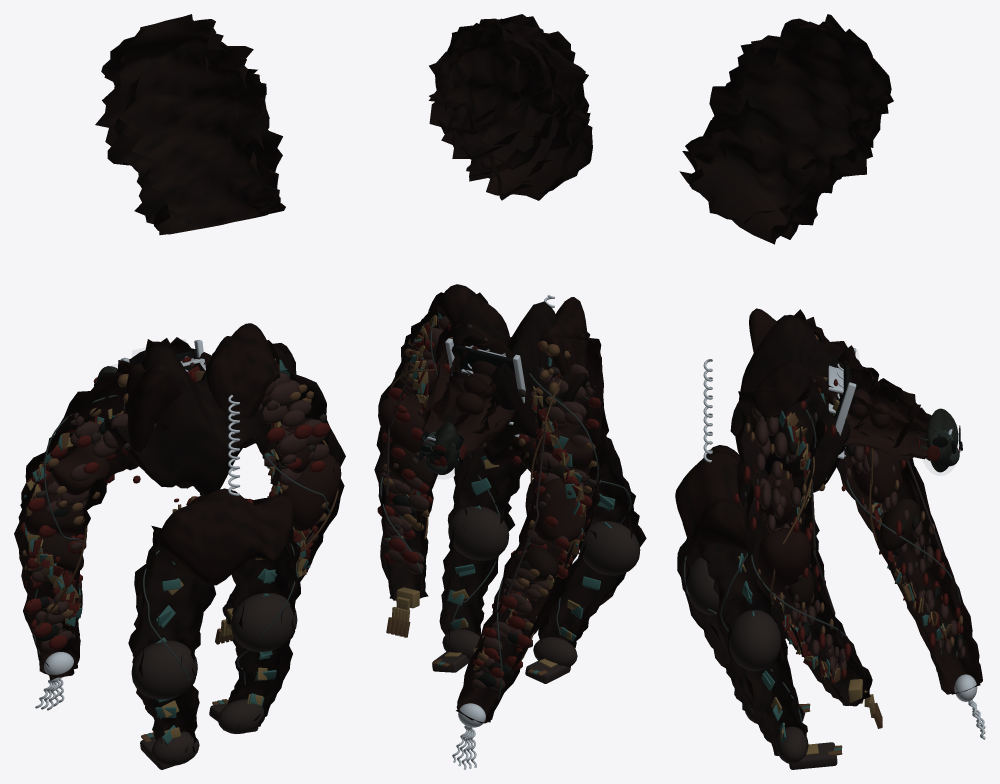
3 renders of one model, left to right at view 1: azimuth 30°, elevation 25°; view 2: azimuth 150°, elevation 25°; view 3: azimuth 270°, elevation 25°, orthographic. The views are drawn at different scales.
Visible parts, largest first — view 1: torso_continuous_hunched_mass, chest_fused_mass, pelvis_fused_mass, leg_l_continuous_fused_limb, arm_l_continuous_fused_limb, leg_r_continuous_fused_limb, shoulder_hump_1, shoulder_hump_-1, leg_l_knee_joint, leg_r_knee_joint, arm_r_continuous_fused_limb, arm_r_elbow_fused_joint (+6 smaller); view 2: torso_continuous_hunched_mass, arm_l_continuous_fused_limb, chest_fused_mass, leg_r_continuous_fused_limb, leg_l_continuous_fused_limb, arm_r_continuous_fused_limb, leg_r_knee_joint, leg_l_knee_joint, neck_forward_fused_mass, arm_l_elbow_fused_joint, shoulder_hump_-1, neck_trapezius_bridge_-1 (+18 smaller); view 3: torso_continuous_hunched_mass, arm_r_continuous_fused_limb, arm_l_continuous_fused_limb, leg_r_continuous_fused_limb, chest_fused_mass, pelvis_fused_mass, neck_trapezius_bridge_1, arm_r_elbow_fused_joint, leg_r_knee_joint, shoulder_hump_1, neck_forward_fused_mass, leg_l_continuous_fused_limb (+9 smaller).
Part boxes in pixels (left/top/right/bottom): torso_continuous_hunched_mass: left=95, top=14, right=285, bottom=235; chest_fused_mass: left=105, top=336, right=271, bottom=496; pelvis_fused_mass: left=157, top=488, right=293, bottom=585; leg_l_continuous_fused_limb: left=128, top=525, right=215, bottom=761; arm_l_continuous_fused_limb: left=14, top=360, right=169, bottom=680; leg_r_continuous_fused_limb: left=227, top=498, right=300, bottom=726; shoulder_hump_1: left=206, top=323, right=280, bottom=419; shoulder_hump_-1: left=125, top=362, right=183, bottom=451; leg_l_knee_joint: left=131, top=640, right=197, bottom=699; leg_r_knee_joint: left=231, top=593, right=297, bottom=651; arm_r_continuous_fused_limb: left=222, top=340, right=345, bottom=624; arm_r_elbow_fused_joint: left=275, top=453, right=341, bottom=531; torso_continuous_hunched_mass: left=428, top=14, right=592, bottom=200; arm_l_continuous_fused_limb: left=456, top=331, right=610, bottom=723; chest_fused_mass: left=435, top=296, right=587, bottom=450; leg_r_continuous_fused_limb: left=439, top=447, right=526, bottom=640; leg_l_continuous_fused_limb: left=538, top=437, right=646, bottom=651; arm_r_continuous_fused_limb: left=374, top=292, right=488, bottom=600; leg_r_knee_joint: left=448, top=506, right=509, bottom=560; leg_l_knee_joint: left=579, top=521, right=640, bottom=575; neck_forward_fused_mass: left=432, top=333, right=513, bottom=434; arm_l_elbow_fused_joint: left=531, top=478, right=586, bottom=541; shoulder_hump_-1: left=541, top=297, right=588, bottom=375; neck_trapezius_bridge_-1: left=453, top=345, right=560, bottom=455; torso_continuous_hunched_mass: left=679, top=14, right=893, bottom=244; arm_r_continuous_fused_limb: left=730, top=388, right=872, bottom=706; arm_l_continuous_fused_limb: left=777, top=309, right=982, bottom=694; leg_r_continuous_fused_limb: left=699, top=537, right=807, bottom=755; chest_fused_mass: left=738, top=314, right=852, bottom=492; pelvis_fused_mass: left=675, top=445, right=747, bottom=551; neck_trapezius_bridge_1: left=813, top=375, right=939, bottom=460; arm_r_elbow_fused_joint: left=757, top=528, right=811, bottom=595; leg_r_knee_joint: left=729, top=609, right=781, bottom=671; shoulder_hump_1: left=749, top=360, right=811, bottom=427; neck_forward_fused_mass: left=838, top=345, right=920, bottom=447; leg_l_continuous_fused_limb: left=677, top=523, right=745, bottom=711.
Size of what is drawn, in the model's own units: 2.39 by 6.1 by 2.33.
